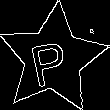P_N: (30, 30, 76, 87)
